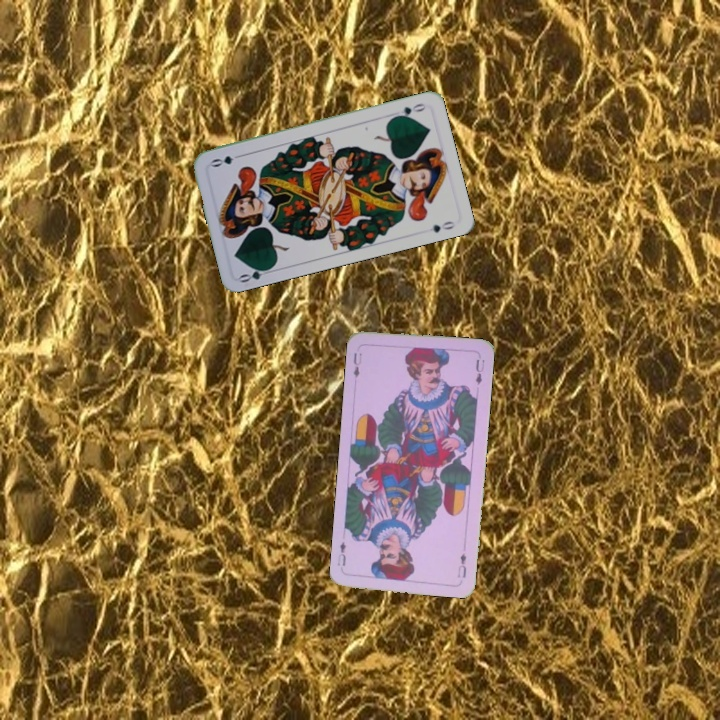EU: (453, 549, 469, 581), (349, 348, 364, 380)
GO: (236, 263, 276, 285), (389, 99, 429, 120)
